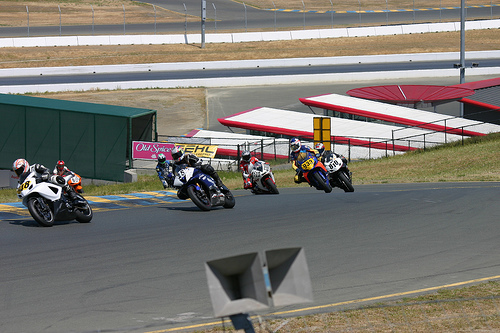helmet: (12, 159, 31, 177), (170, 147, 181, 159), (290, 138, 298, 152)
